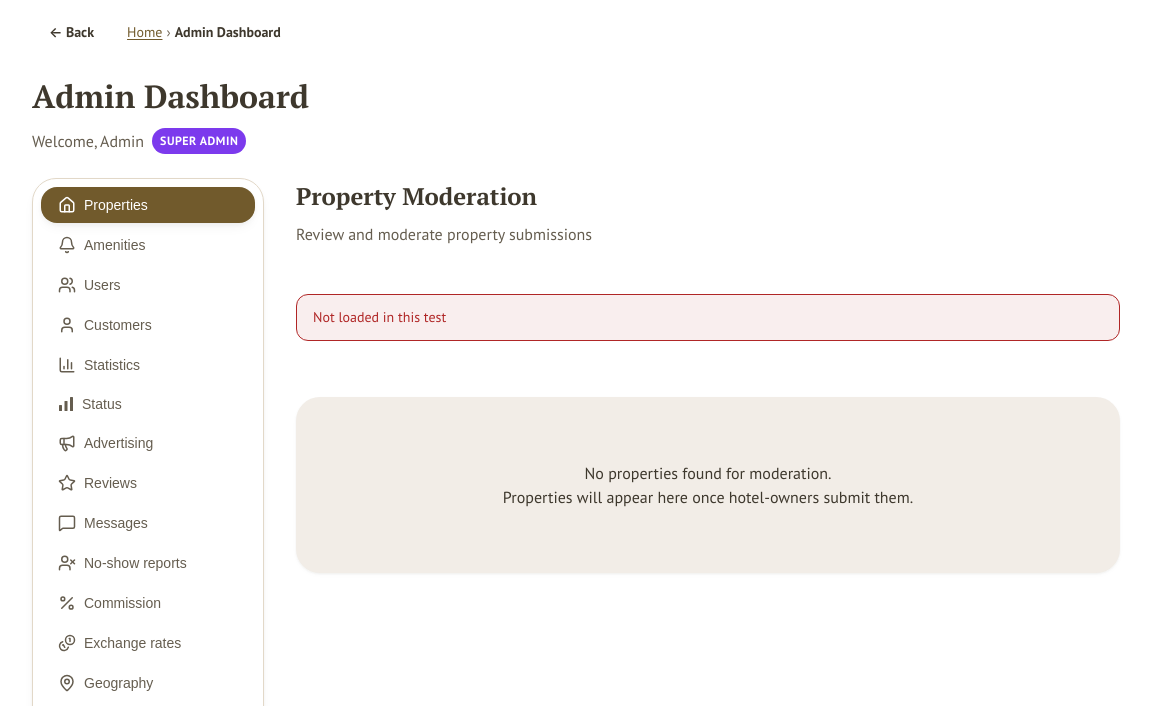
Test: admin pages have exactly one breadcrumb › Status screens: countries list
What coordinates should you click on to do the following:
click the button "Status"
I would click on:
 (148, 404)
Its box is left=41, top=387, right=255, bottom=421.
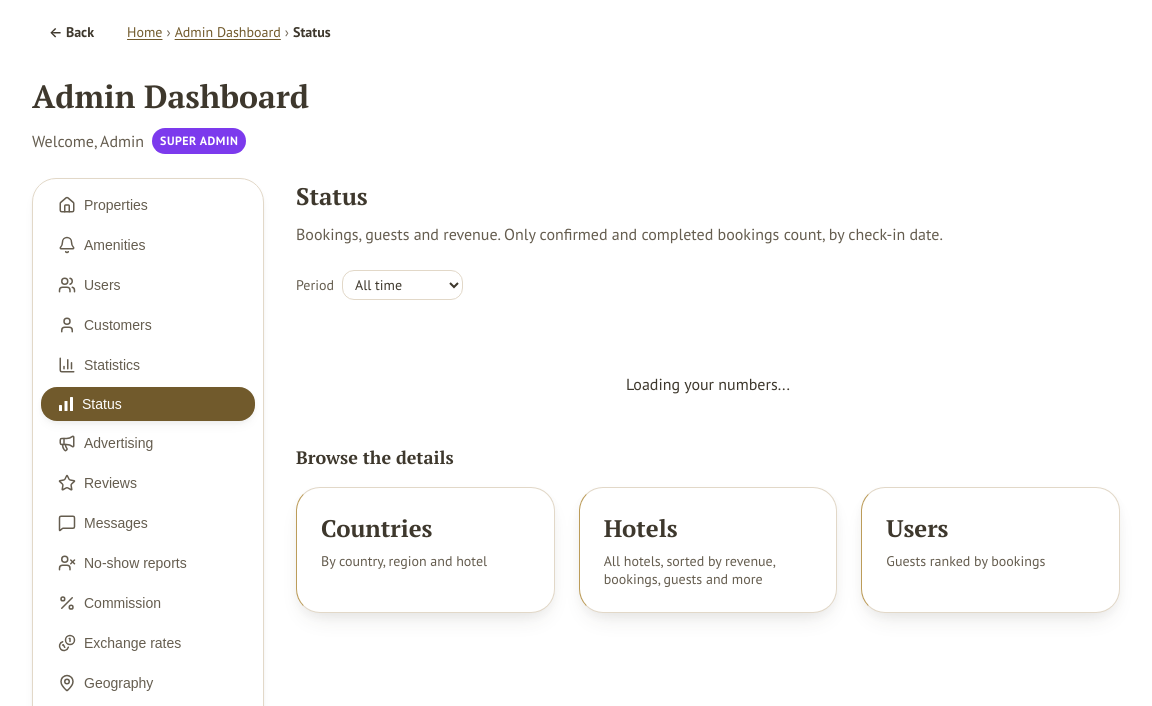
What coordinates should you click on to do the following:
click the button "Countries By country, region and hotel"
I would click on:
 (425, 550)
Its box is left=296, top=487, right=555, bottom=613.
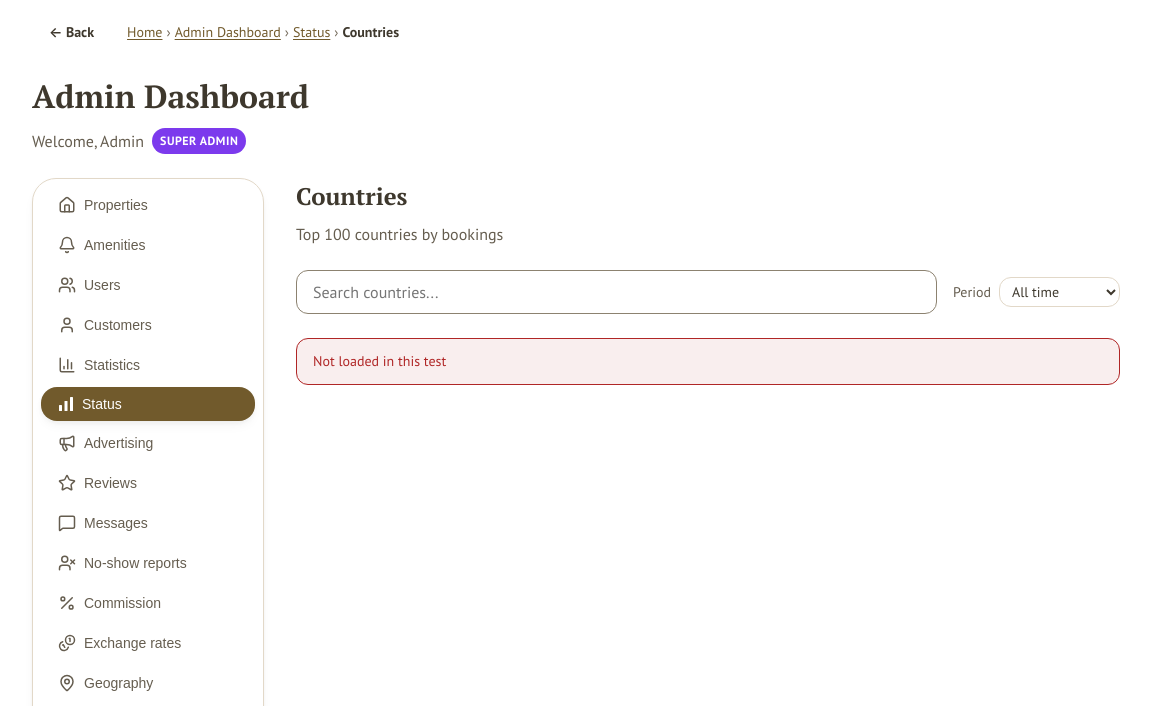
Expected: the number of navigation bars named "Breadcrumb" is 1, left=127, top=22, right=399, bottom=42
Now the message "Not loaded in this test" is shown, box left=296, top=338, right=1120, bottom=385
